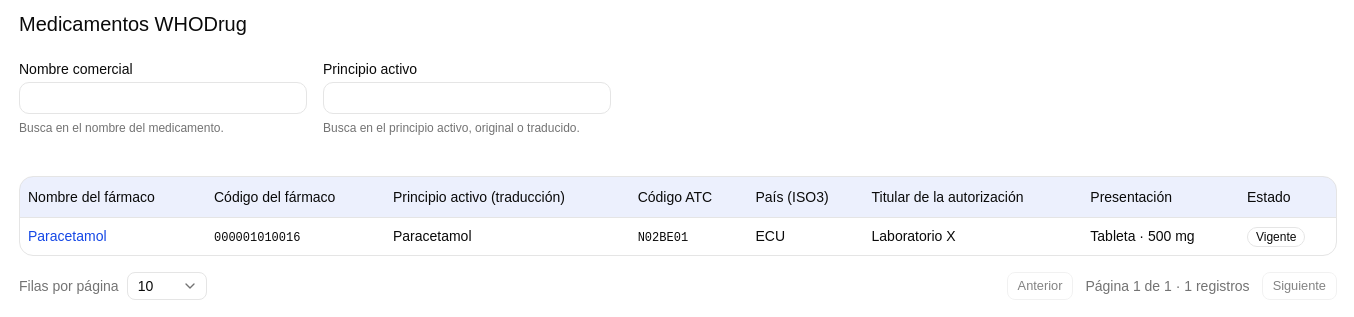
Test case: WhodrugProductListPage — filtros en la URL (SPEC FE25d §3.4) › con menos de 3 caracteres muestra la ayuda y no envía el parámetro
Type "pa" into the search field labelled "Nombre comercial" at (163, 98), box [19, 82, 307, 114]
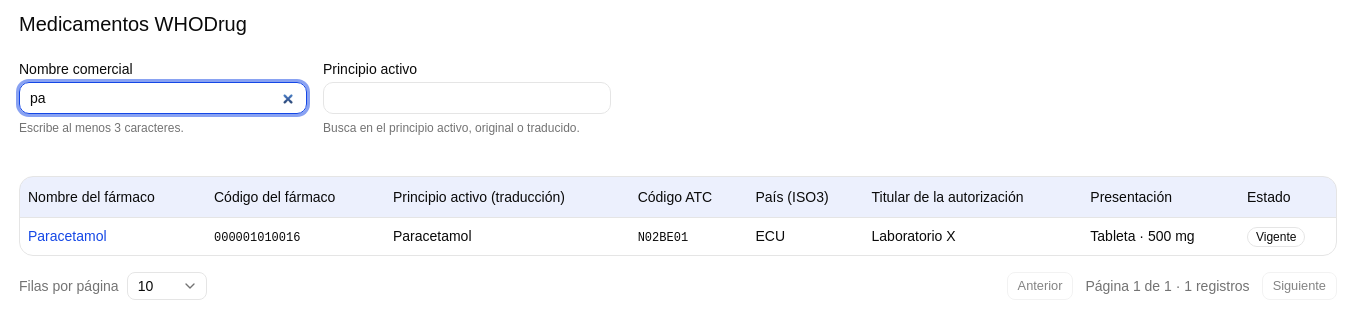
Expected: the text "Escribe al menos 3 caracteres." is shown, [19, 121, 184, 135]
